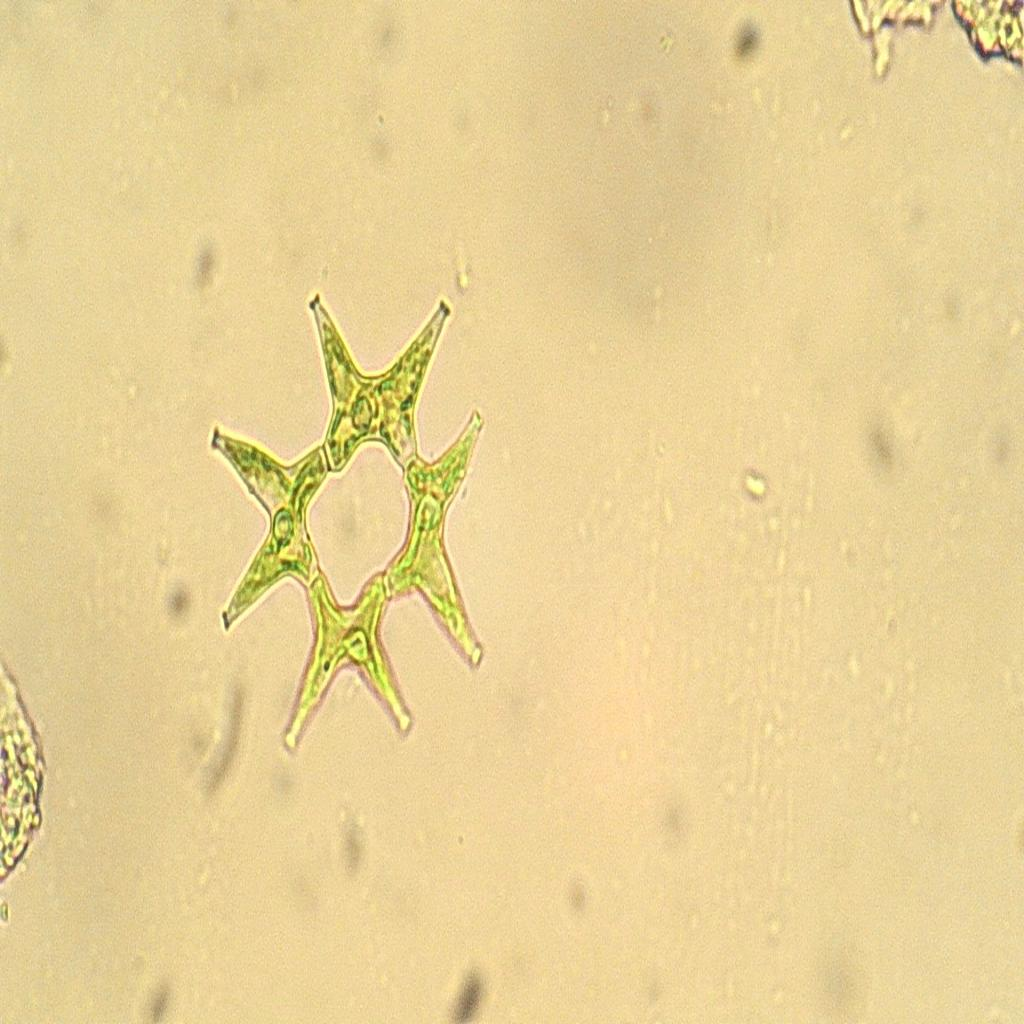Pediastrum_CO: (198, 267, 498, 779)
